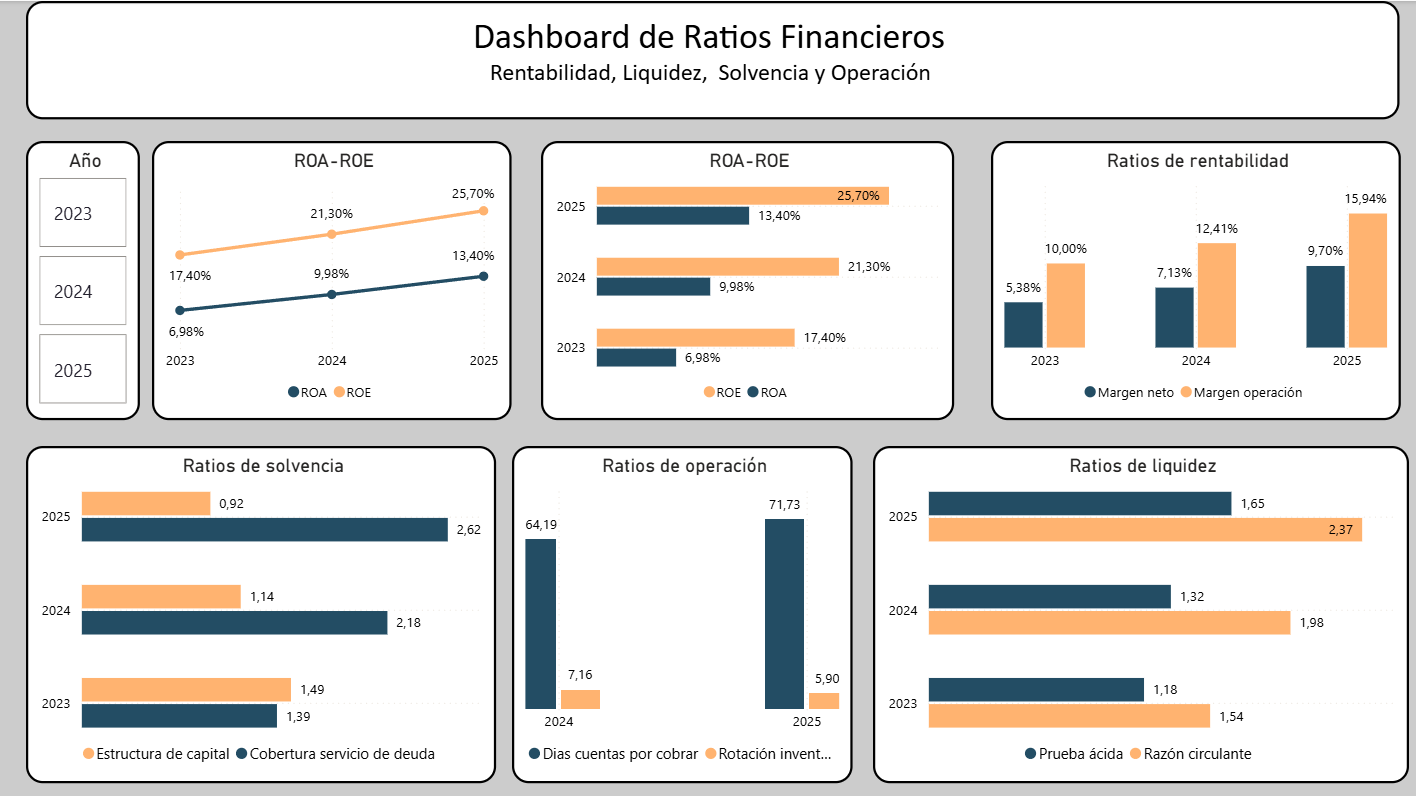

The dashboard page shown, as its layout file describes it:
{"tool":"powerbi","page":{"name":"dashboard ratios","canvas":[1280,720],"ordinal":1},"visuals":[{"type":"clusteredBarChart","title":"ROA-ROE","fields":{"Category":["Ratios.Año"],"Y":["Sum(Ratios.Valor)"],"Series":["Ratios.Tipo de Ratio"]},"box":[496,125.5,369.6,250],"z":0},{"type":"clusteredBarChart","title":"Ratios de solvencia","fields":{"Category":["Ratios.Año"],"Y":["Sum(Ratios.Valor)"],"Series":["Ratios.Tipo de Ratio"]},"box":[35,398.8,421.2,301.5],"z":1000},{"type":"clusteredBarChart","title":"Ratios de liquidez","fields":{"Category":["Ratios.Año"],"Y":["Sum(Ratios.Valor)"],"Series":["Ratios.Tipo de Ratio"]},"box":[793.7,398.8,479.5,301.5],"z":2000},{"type":"clusteredColumnChart","title":"Ratios de rentabilidad","fields":{"Category":["Ratios.Año"],"Series":["Ratios.Tipo de Ratio"],"Y":["Sum(Ratios.Valor)"]},"box":[898.7,125.5,366.7,250],"z":3000},{"type":"clusteredColumnChart","title":"Ratios de operación","fields":{"Category":["Ratioop.Año"],"Y":["Sum(Ratioop.Valor)"],"Series":["Ratioop.Tipo de operación"]},"box":[469.8,398.8,305.4,301.5],"z":4000},{"type":"lineChart","title":"ROA-ROE","fields":{"Category":["Ratios.Año"],"Y":["Sum(Ratios.Valor)"],"Series":["Ratios.Tipo de Ratio"]},"box":[147.8,125.5,321.9,250],"z":5000},{"type":"advancedSlicerVisual","fields":{"Values":["Ratios.Año"]},"box":[35,125.5,102.1,250],"z":6000},{"type":"textbox","box":[35,0,1230.4,106],"z":7000}]}

Visuals, with their boxes in screenshot pixels (x1, y1, x2, y2), scaled from the page's 1280x720 canvas onto the 1416x796 screenshot:
"ROA-ROE" clusteredBarChart: select_region(549, 139, 958, 415)
"Ratios de solvencia" clusteredBarChart: select_region(39, 441, 505, 774)
"Ratios de liquidez" clusteredBarChart: select_region(878, 441, 1408, 774)
"Ratios de rentabilidad" clusteredColumnChart: select_region(994, 139, 1400, 415)
"Ratios de operación" clusteredColumnChart: select_region(520, 441, 858, 774)
"ROA-ROE" lineChart: select_region(164, 139, 520, 415)
advancedSlicerVisual - Ratios.Año: select_region(39, 139, 152, 415)
textbox: select_region(39, 0, 1400, 117)
